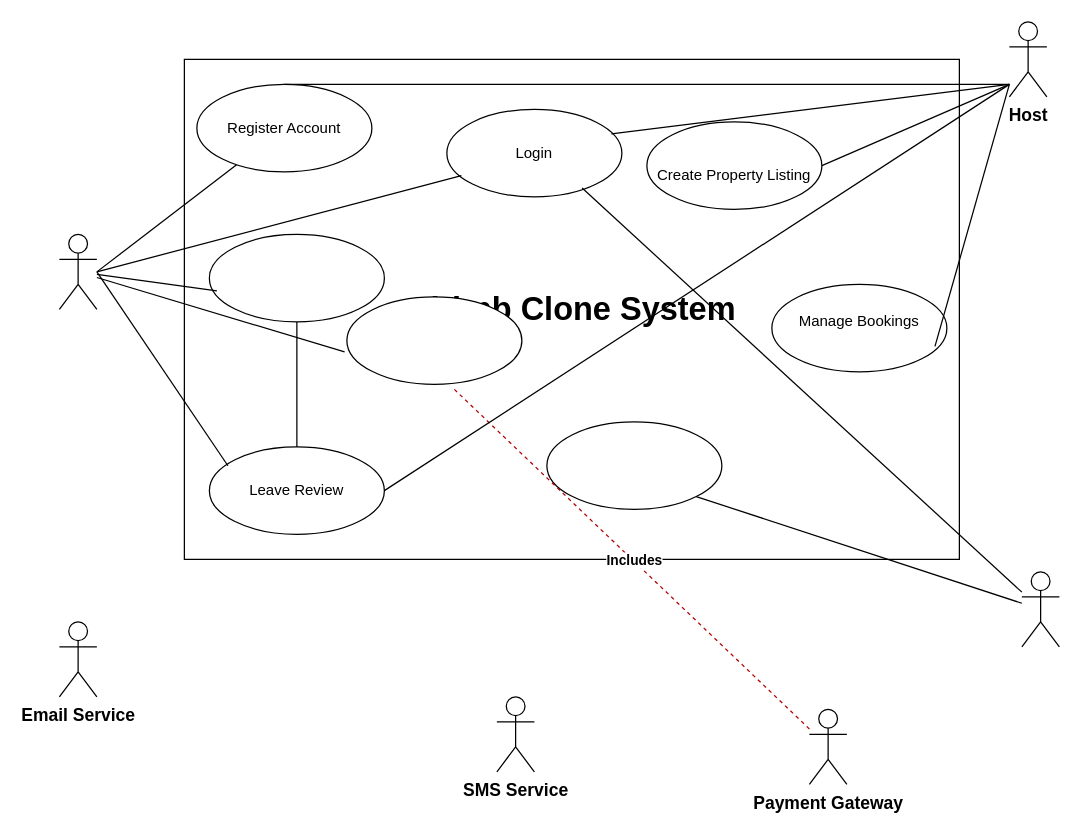
The diagram is 1090 pixels wide and 836 high, and some of its shapes have lost their labels. Each missing label, with the box of its shape:
Admin: (1021, 571, 1059, 647)
Admin Dashboard: (546, 421, 722, 509)
Book Property: (346, 296, 522, 384)
Guest: (58, 233, 97, 309)
Search Properties: (208, 233, 384, 322)
